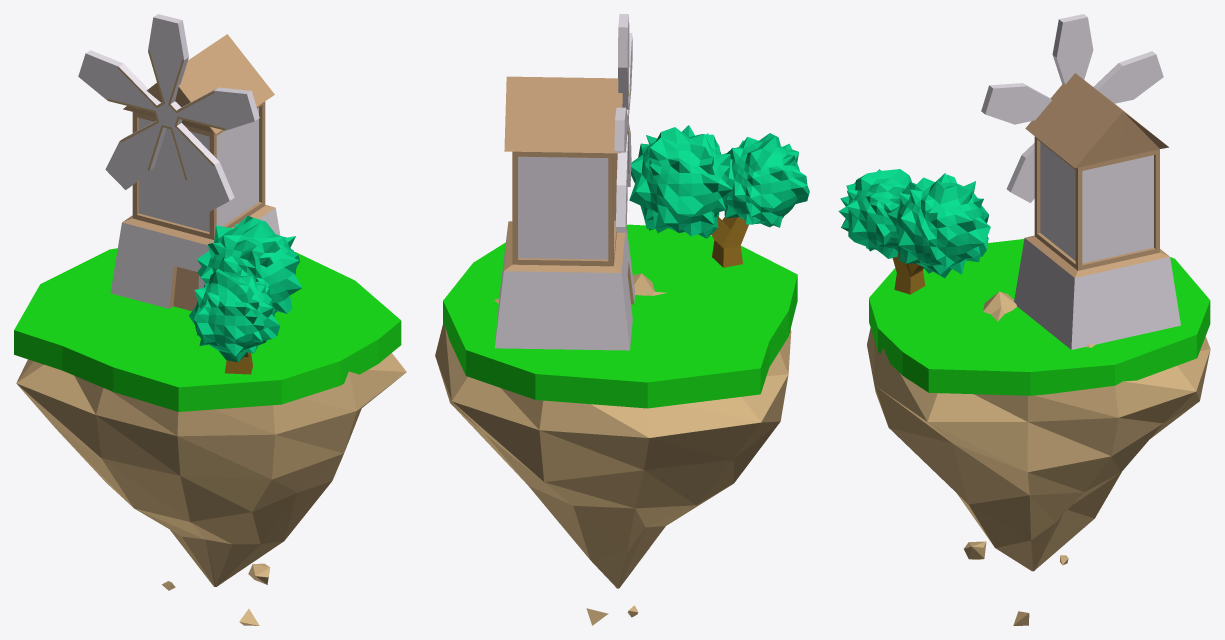
File: island.glb
3 views of the same model, side by side, from view 1: azimuth 30°, elevation 25°; view 2: azimuth 150°, elevation 25°; view 3: azimuth 270°, elevation 25° (orthographic). The views are drawn at different scales.
Visible parts, largest first — view 1: Island, Green_platform, Mill, propeller, Tree; view 2: Island, Green_platform, Mill, Tree, propeller; view 3: Island, Mill, Green_platform, Tree, propeller.
Part boxes in pixels (x1,y1,x2,y2): Island: (16, 353, 406, 625); Green_platform: (14, 248, 401, 411); Mill: (110, 34, 280, 310); propeller: (78, 14, 259, 211); Tree: (189, 215, 301, 374); Island: (435, 273, 791, 625); Green_platform: (443, 224, 797, 408); Mill: (495, 76, 634, 350); Tree: (629, 125, 809, 267); propeller: (614, 14, 632, 232); Island: (867, 291, 1210, 625); Mill: (1014, 73, 1180, 349); Green_platform: (869, 239, 1210, 395); Tree: (838, 169, 990, 294); propeller: (981, 14, 1163, 202).
Bounding box in the file's own units: 1.05 × 1.95 × 1.13.
